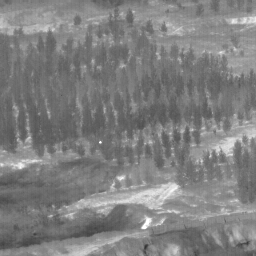aircraft: (100, 142, 102, 144)
